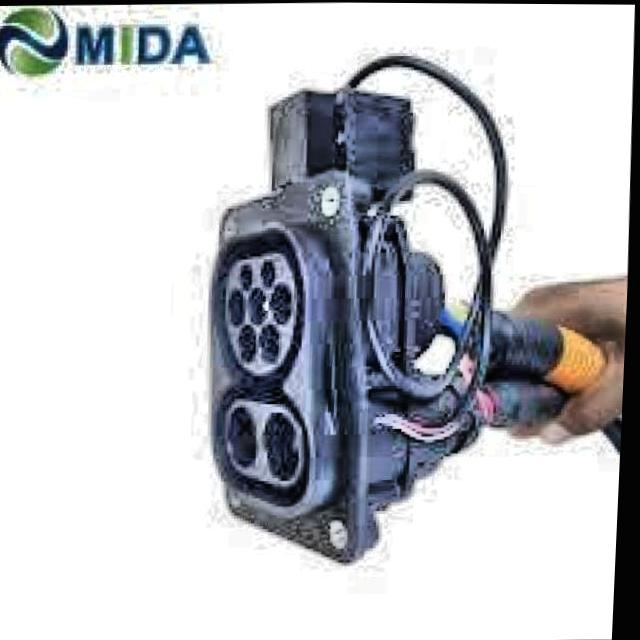inlet: (228, 252, 297, 374)
inlet-above-left: (242, 263, 255, 290)
inlet-above-right: (262, 260, 277, 287)
inlet-below-left: (241, 324, 259, 360)
inlet-below-right: (262, 324, 282, 361)
inlet-center: (251, 286, 269, 324)
inlet-center-left: (231, 289, 248, 326)
inlet-center-right: (276, 283, 294, 321)
